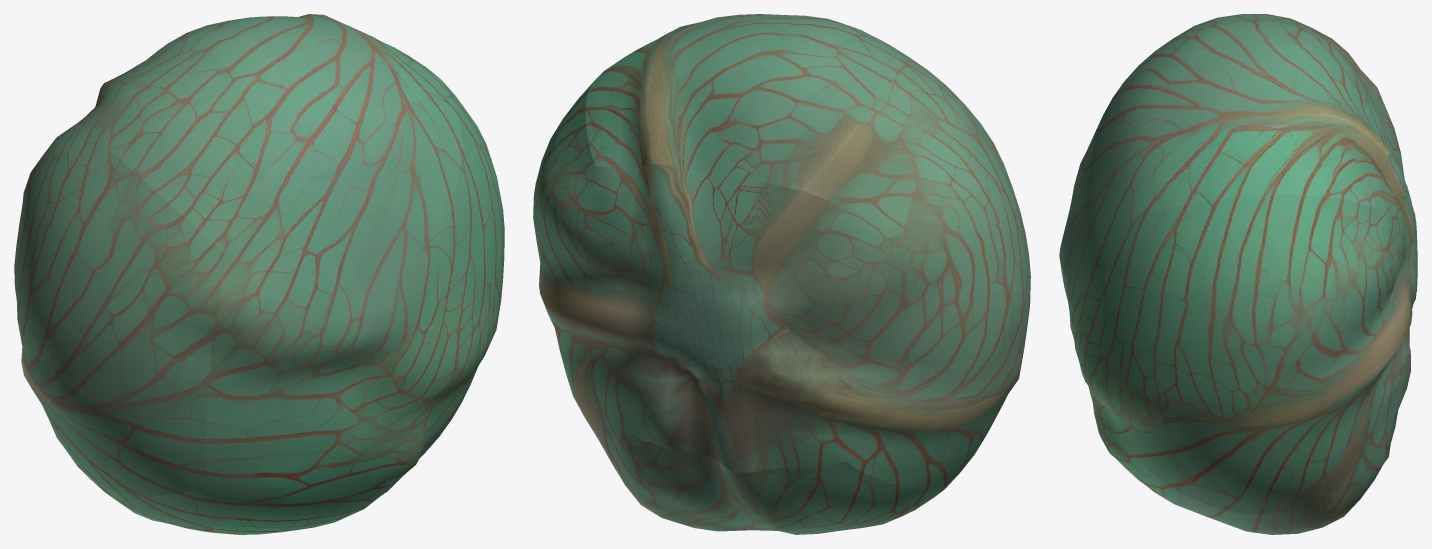
The model's file is cabbage_pbr.glb.
The picture shows the model from 3 angles, left to right: view 1: azimuth 30°, elevation 25°; view 2: azimuth 150°, elevation 25°; view 3: azimuth 270°, elevation 25°; orthographic projection. The views are drawn at different scales.
Parts seen in each view (by area): view 1: geometry_0; view 2: geometry_0; view 3: geometry_0.
Part boxes in pixels (x1=…): geometry_0: x1=14, y1=14, x2=504, y2=534; geometry_0: x1=533, y1=14, x2=1030, y2=534; geometry_0: x1=1059, y1=14, x2=1417, y2=534.
Bounding box in the file's own units: 0.9654 × 1 × 0.698.
Materials: 1 (1 with a texture image).
